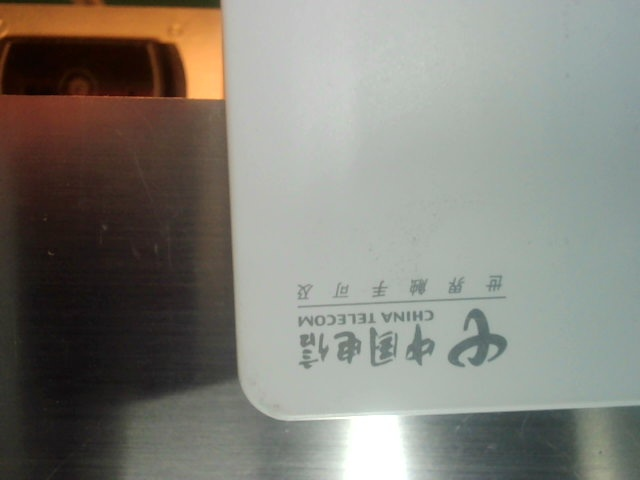AB_ChinaTelecom: (289, 271, 514, 370)
